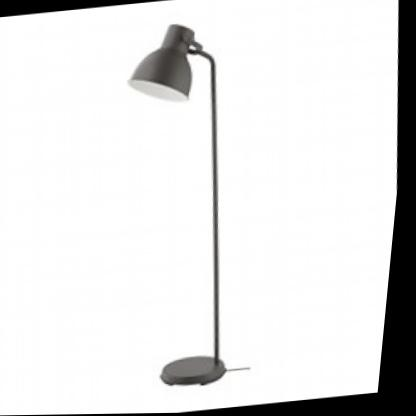Lamp: (68, 7, 279, 410)
